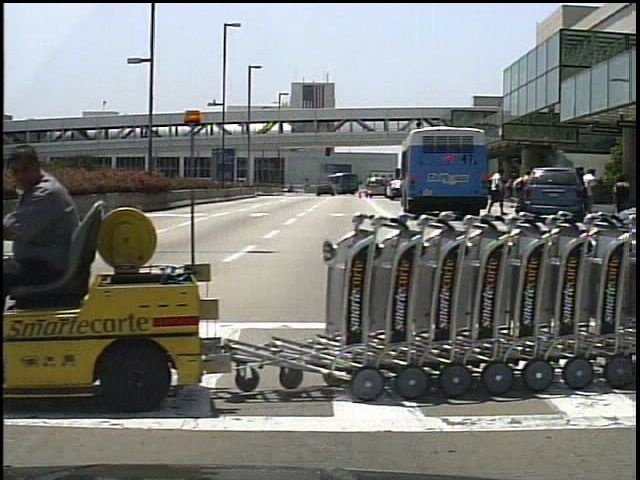person: (0, 144, 94, 357), (510, 167, 531, 219), (580, 165, 601, 214), (489, 166, 509, 217)
